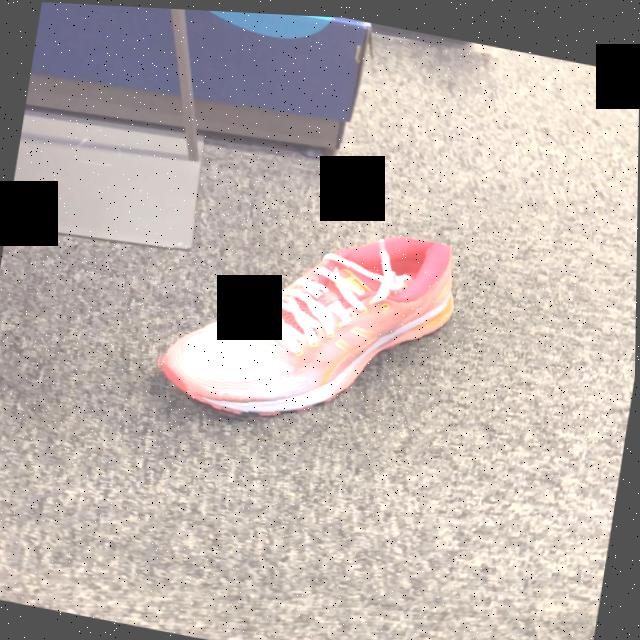shoe: (158, 232, 456, 419)
